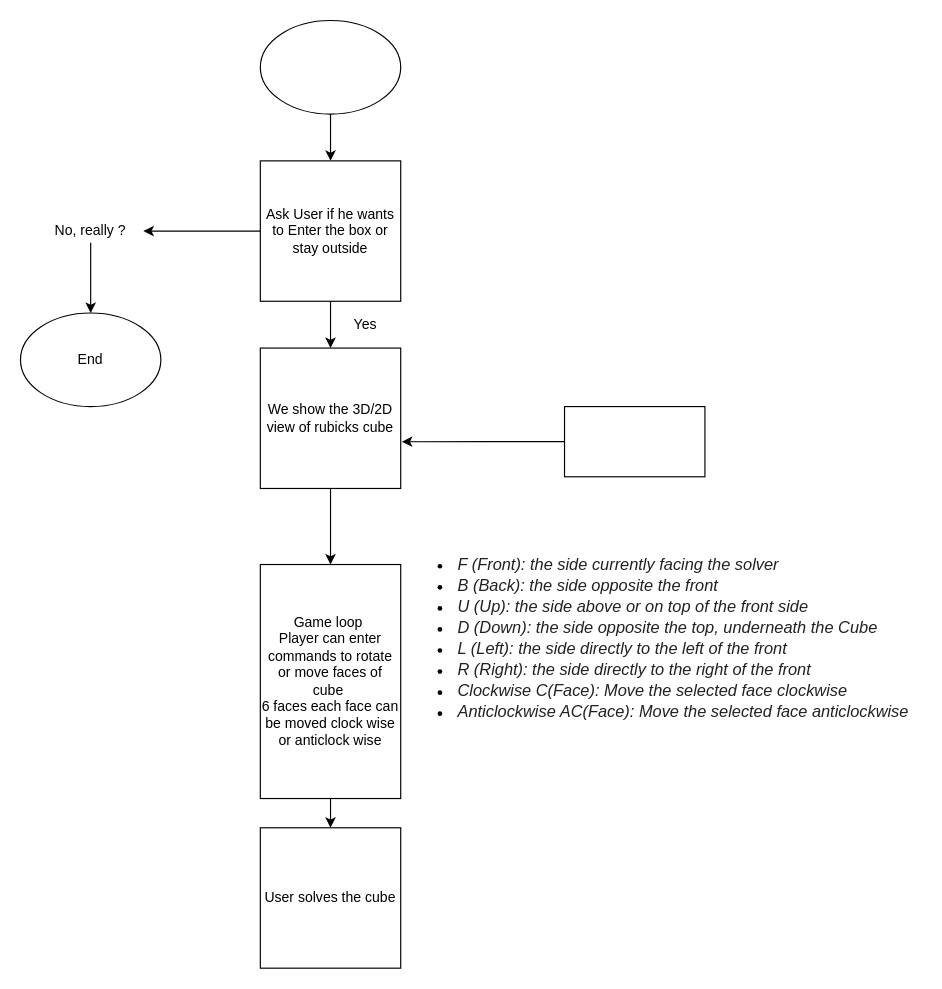
Image size: 942x989. Some labels were removed from this diagram. Each missing label, with the box of its shape:
Run program: (259, 19, 401, 114)
User logins and Spotify provides with access token: (563, 405, 705, 477)
